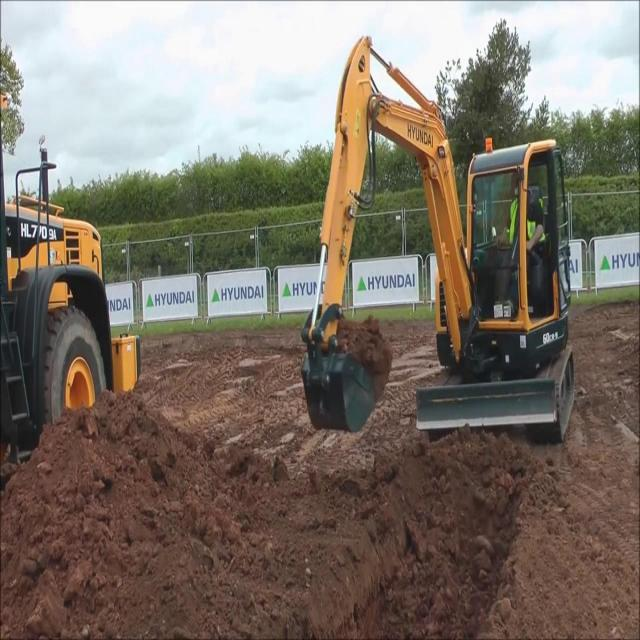Excavator: (298, 34, 576, 447)
Loader: (0, 90, 142, 490)
